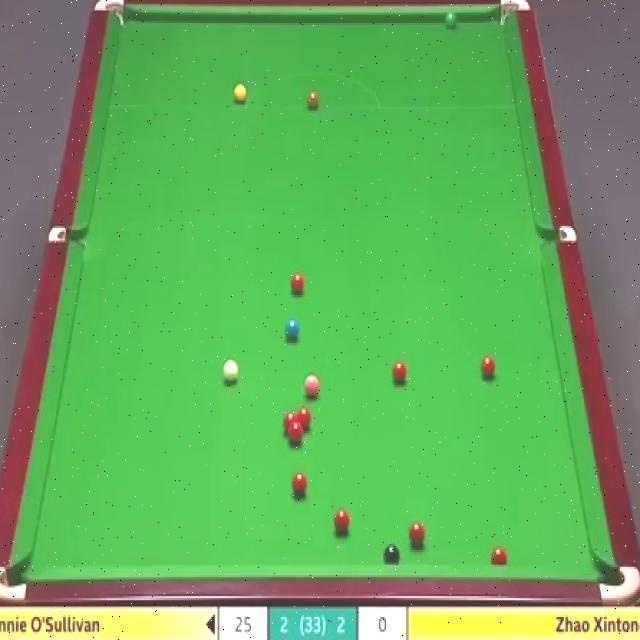black-ball: (384, 542, 400, 566)
blue-ball: (285, 315, 298, 338)
brown-ball: (307, 87, 319, 109)
green-ball: (444, 7, 458, 28)
pink-ball: (303, 372, 322, 400)
red-ball: (292, 468, 310, 497), (334, 507, 351, 537), (408, 522, 426, 550), (391, 358, 408, 386), (480, 356, 495, 382), (489, 544, 508, 564), (283, 412, 297, 438), (298, 407, 312, 432), (291, 271, 305, 295), (289, 425, 304, 446)
white-ball: (223, 356, 238, 386)
yellow-ball: (233, 86, 246, 103)
